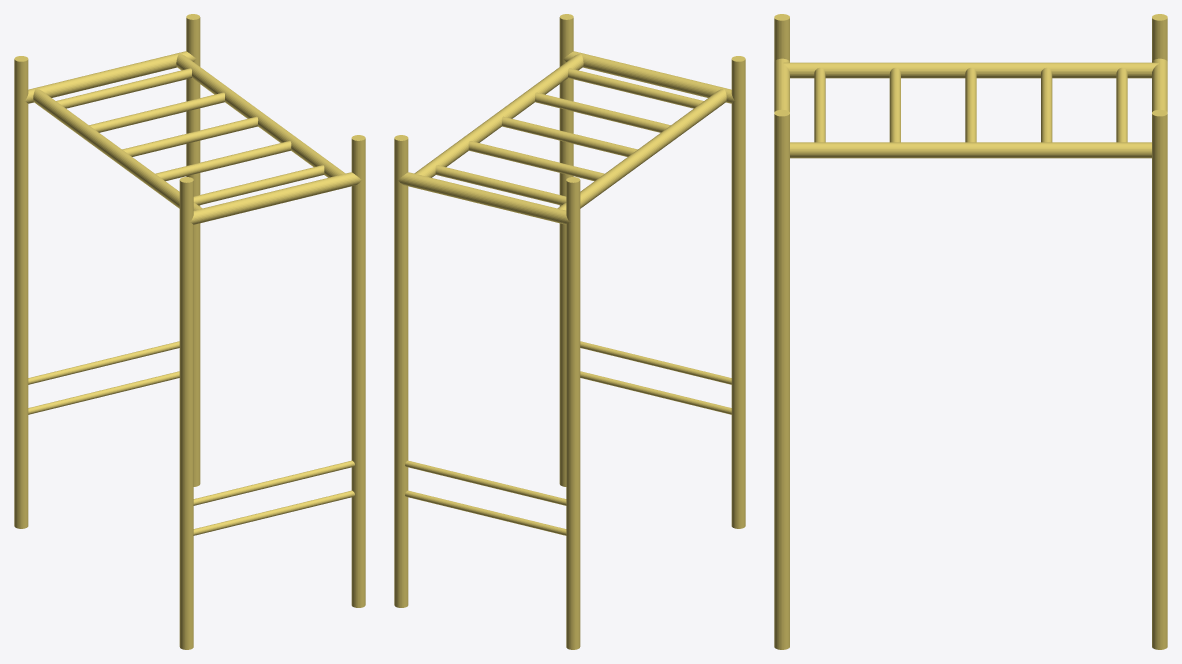
The model's file is monkeybarsM2.glb.
3 renders of one model, left to right at view 1: azimuth 30°, elevation 25°; view 2: azimuth 150°, elevation 25°; view 3: azimuth 270°, elevation 25°, orthographic. The views are drawn at different scales.
Parts seen in each view (by area): view 1: Cylinder.016; view 2: Cylinder.016; view 3: Cylinder.016.
Part boxes in pixels (x1=…): Cylinder.016: x1=14, y1=14, x2=365, y2=649; Cylinder.016: x1=394, y1=14, x2=745, y2=649; Cylinder.016: x1=774, y1=14, x2=1167, y2=649.
Size of the model in its own units: 10.09 by 24.49 by 16.38.
